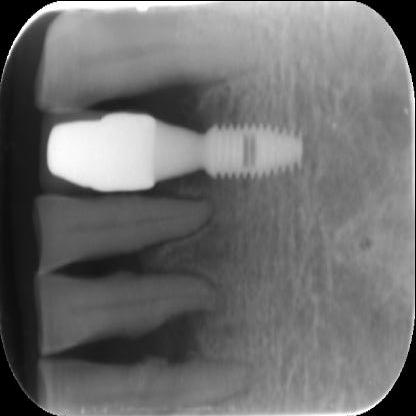Bicon: (211, 121, 306, 181)
